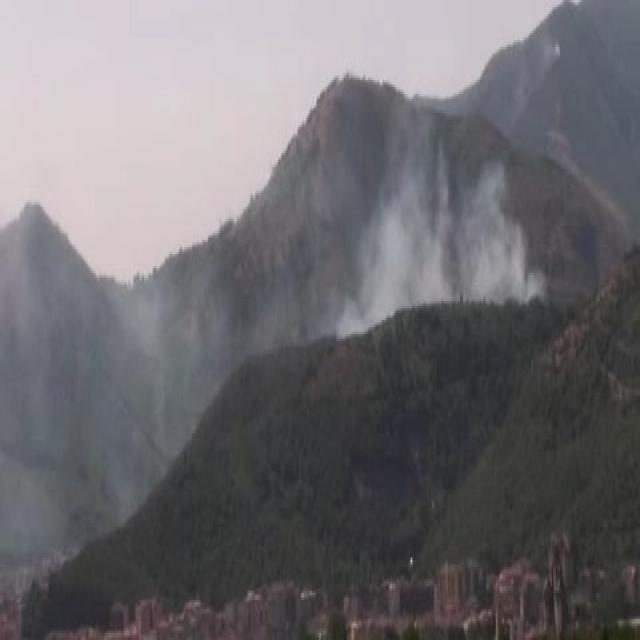smoke: (334, 146, 529, 336)
